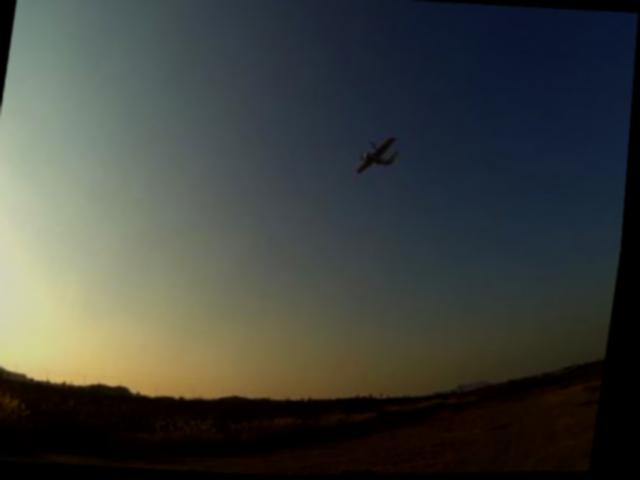uav: (348, 123, 412, 187)
